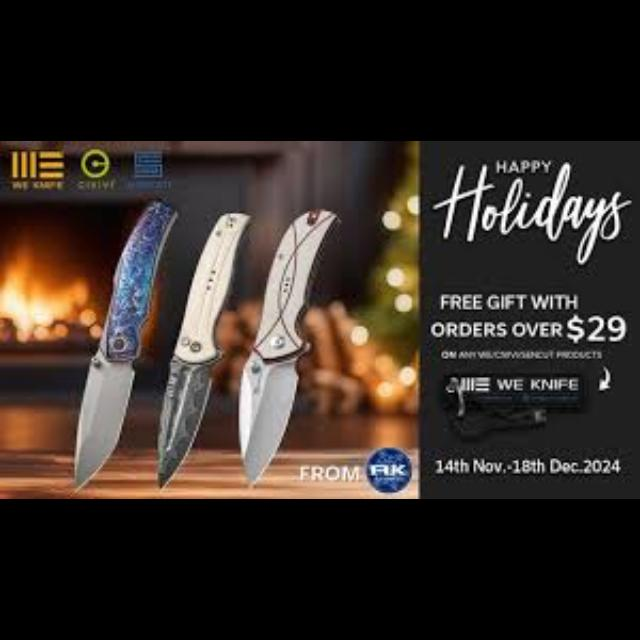Knife: (69, 199, 177, 493), (237, 208, 339, 484), (156, 212, 252, 486)
